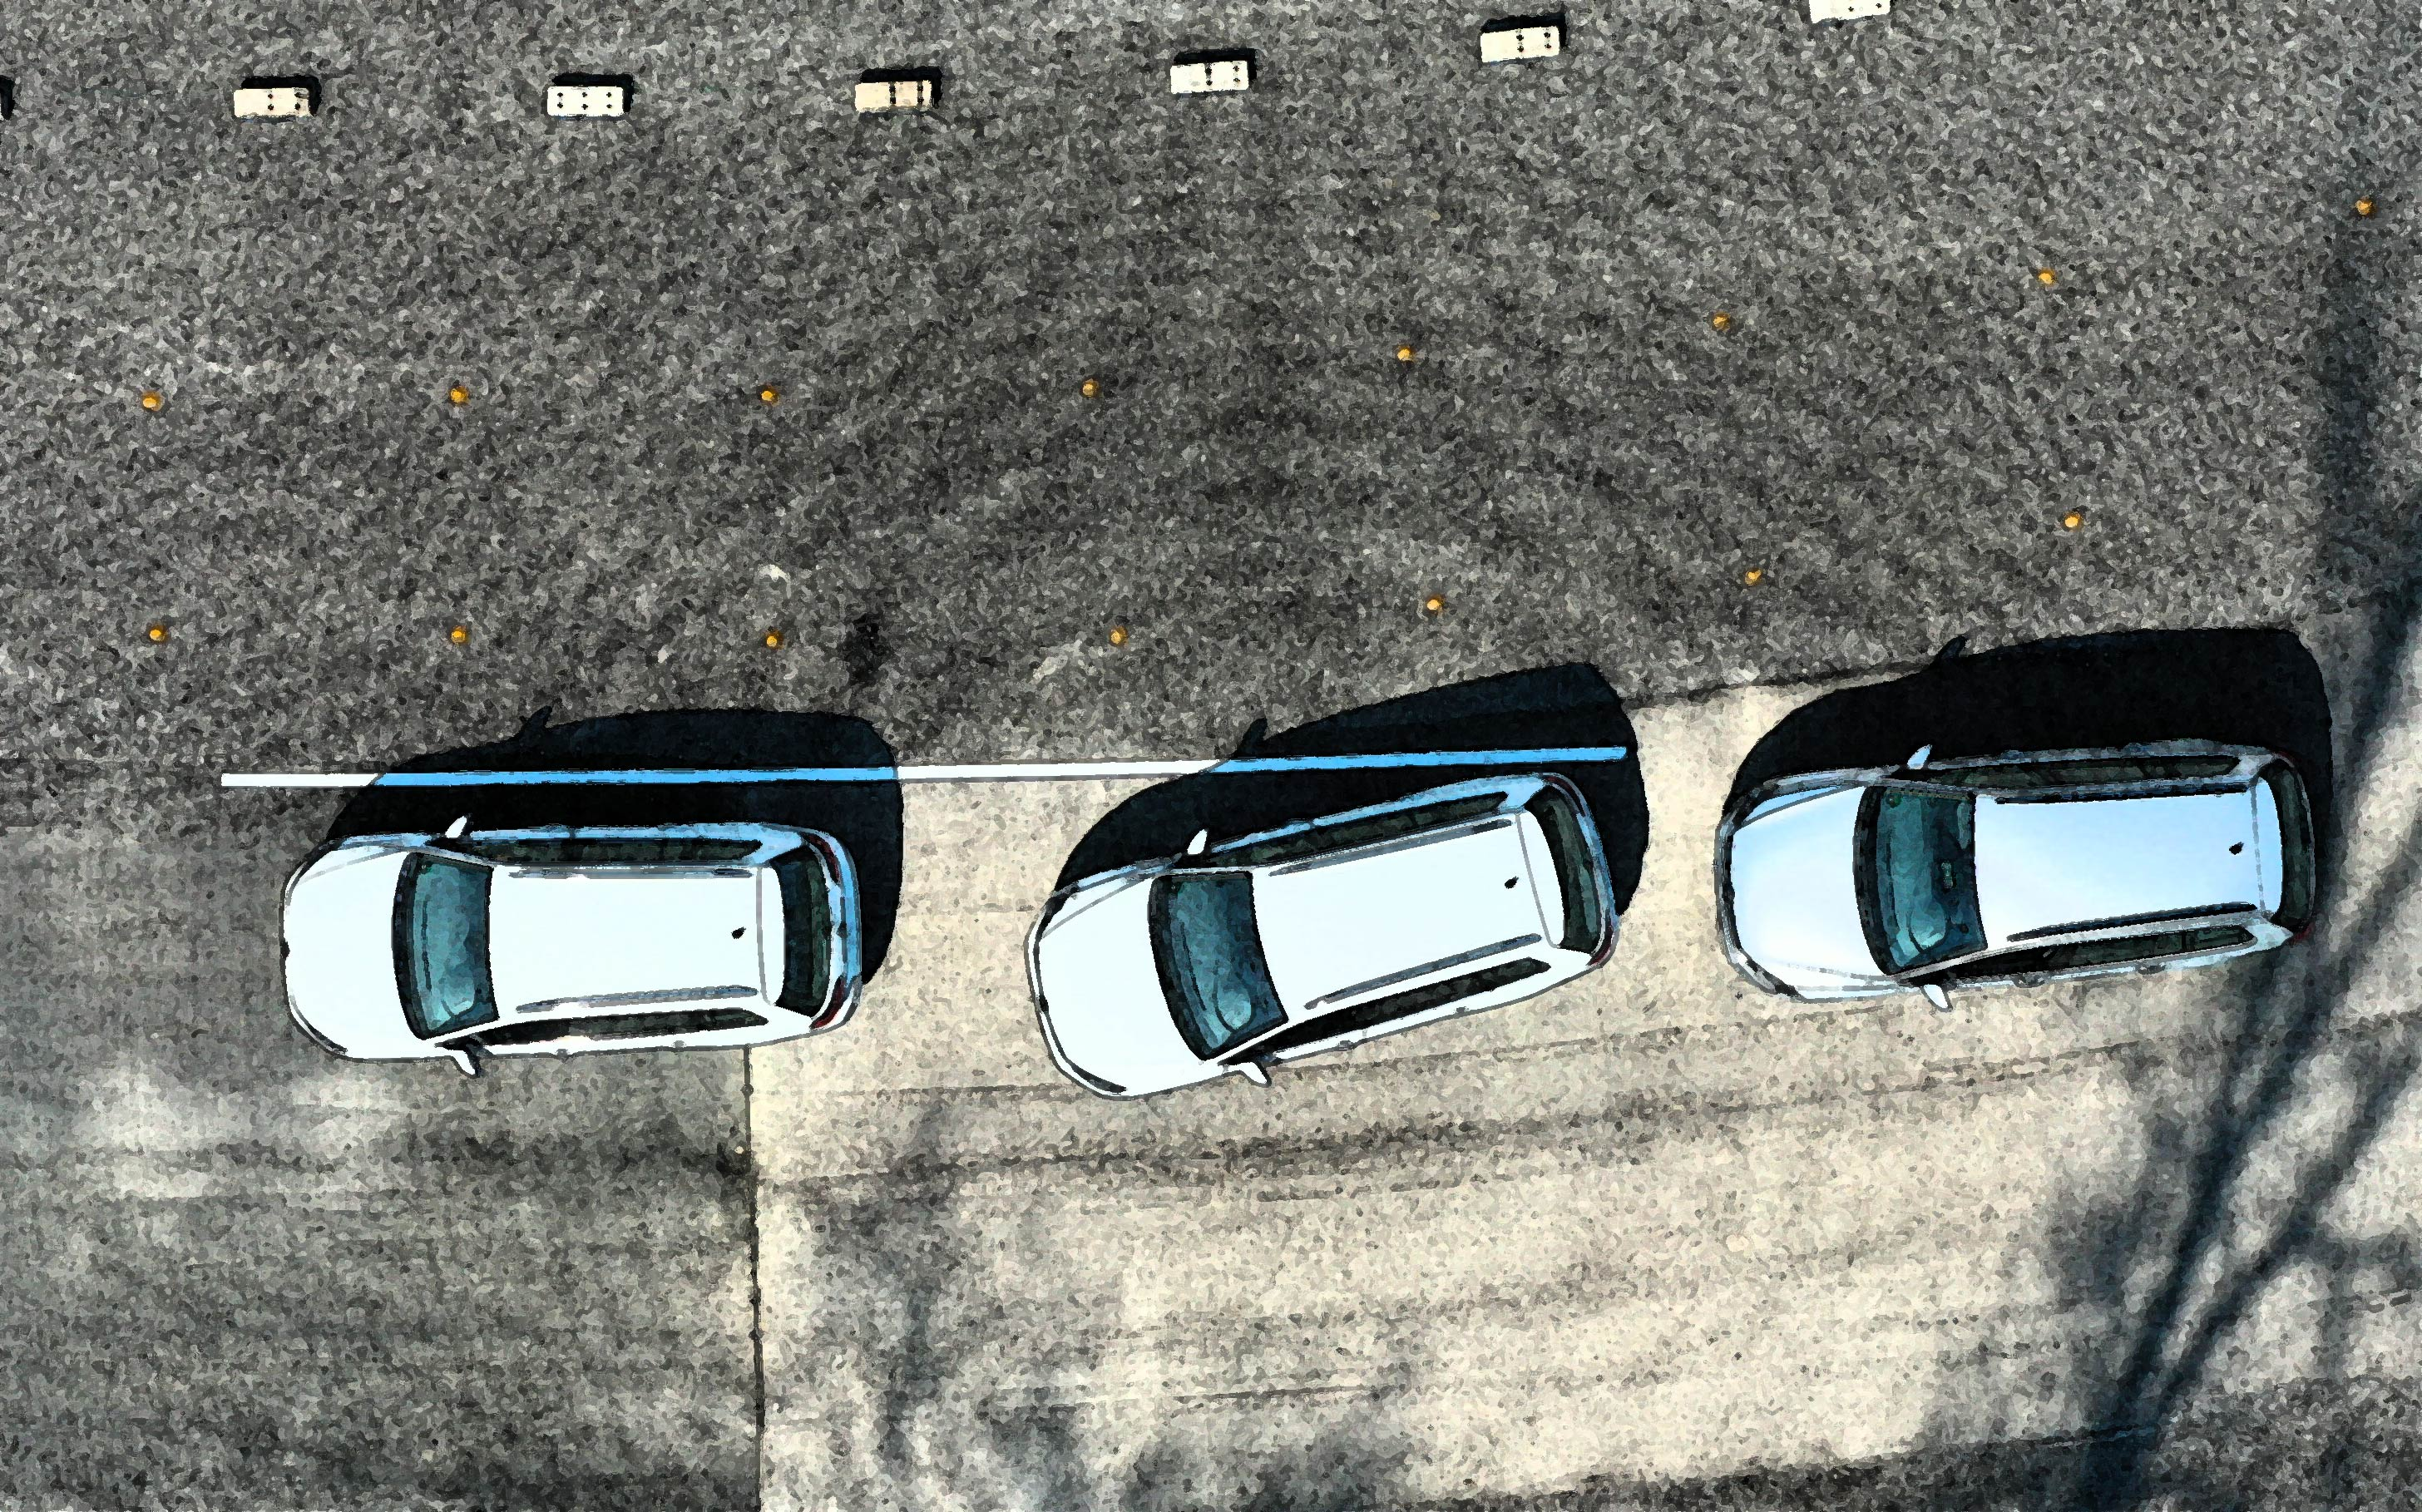Car: (1012, 770, 1625, 1117), (268, 812, 879, 1078), (1719, 746, 2323, 1010)
LaneMark: (218, 740, 1633, 794)
